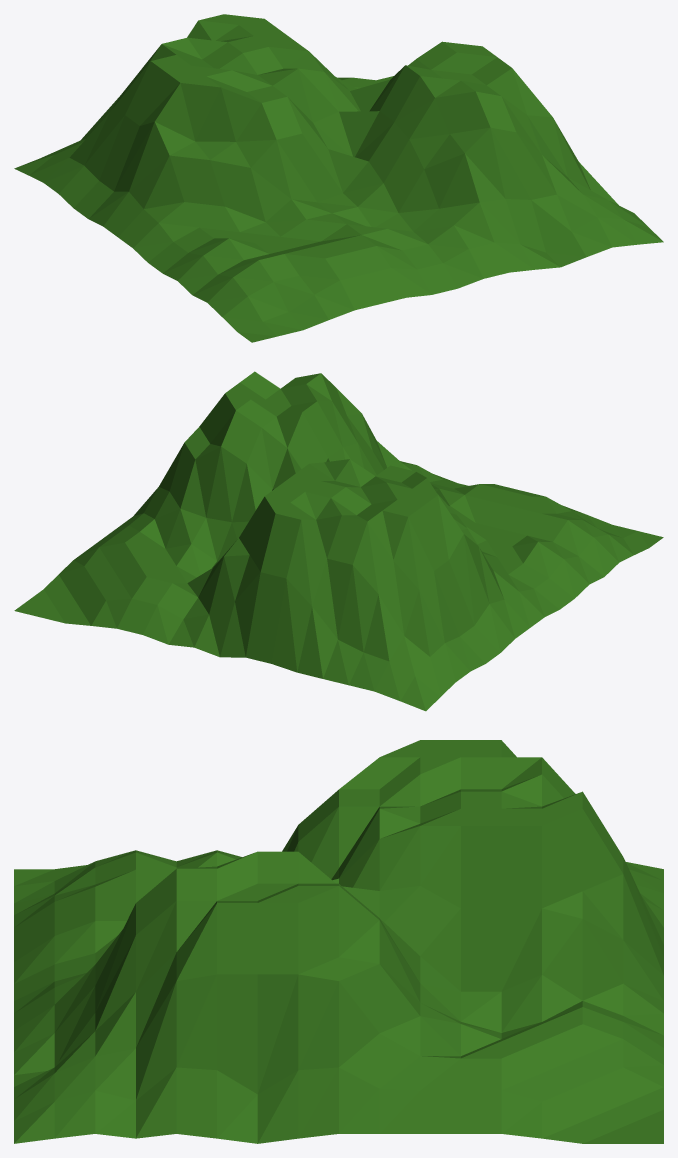
The model's file is ground4.fbx.
3 renders of one model, top to bottom at view 1: azimuth 30°, elevation 25°; view 2: azimuth 150°, elevation 25°; view 3: azimuth 270°, elevation 25°, orthographic. The views are drawn at different scales.
Visible parts, largest first — view 1: Plane; view 2: Plane; view 3: Plane.
Boxes of the visible parts, x1,y1,x2,y2 form: Plane: (14,14,663,342); Plane: (14,371,663,711); Plane: (14,740,663,1143).
Size of the model in its own units: 100 by 32.14 by 100.
1 material, 1 textured.
